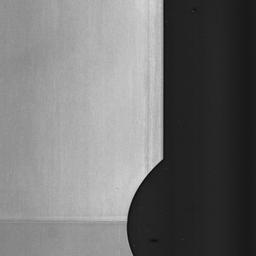Crescent gap: (127, 160, 162, 256)
